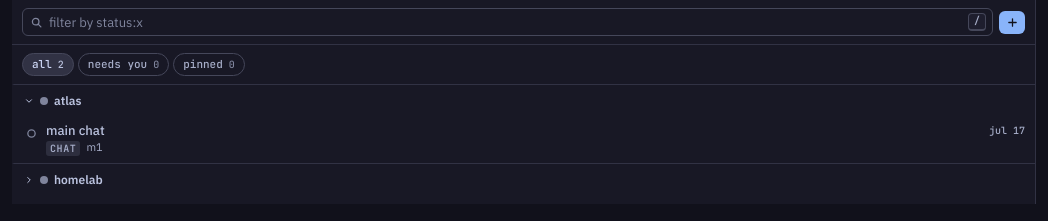
Test: a filter hides agents with no matching sessions and opens the rest
Type "scrub" into the search field named "Filter sessions" at (508, 22), box x1=22 y1=8 x2=993 y2=36
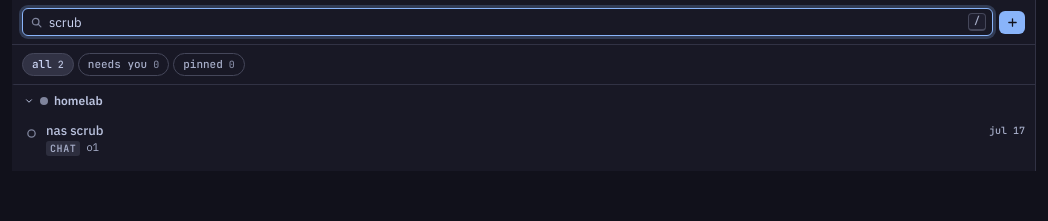
Check: the button named "homelab" is shown, box x1=14 y1=85 x2=38 y2=117
Check: the button "nas scrub jul 17 chat o1" is shown, box x1=12 y1=117 x2=1035 y2=163
